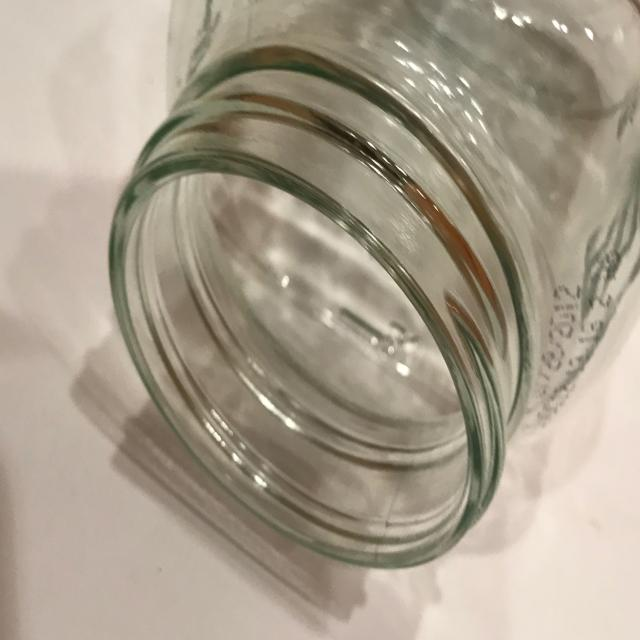glass: (107, 0, 639, 570)
